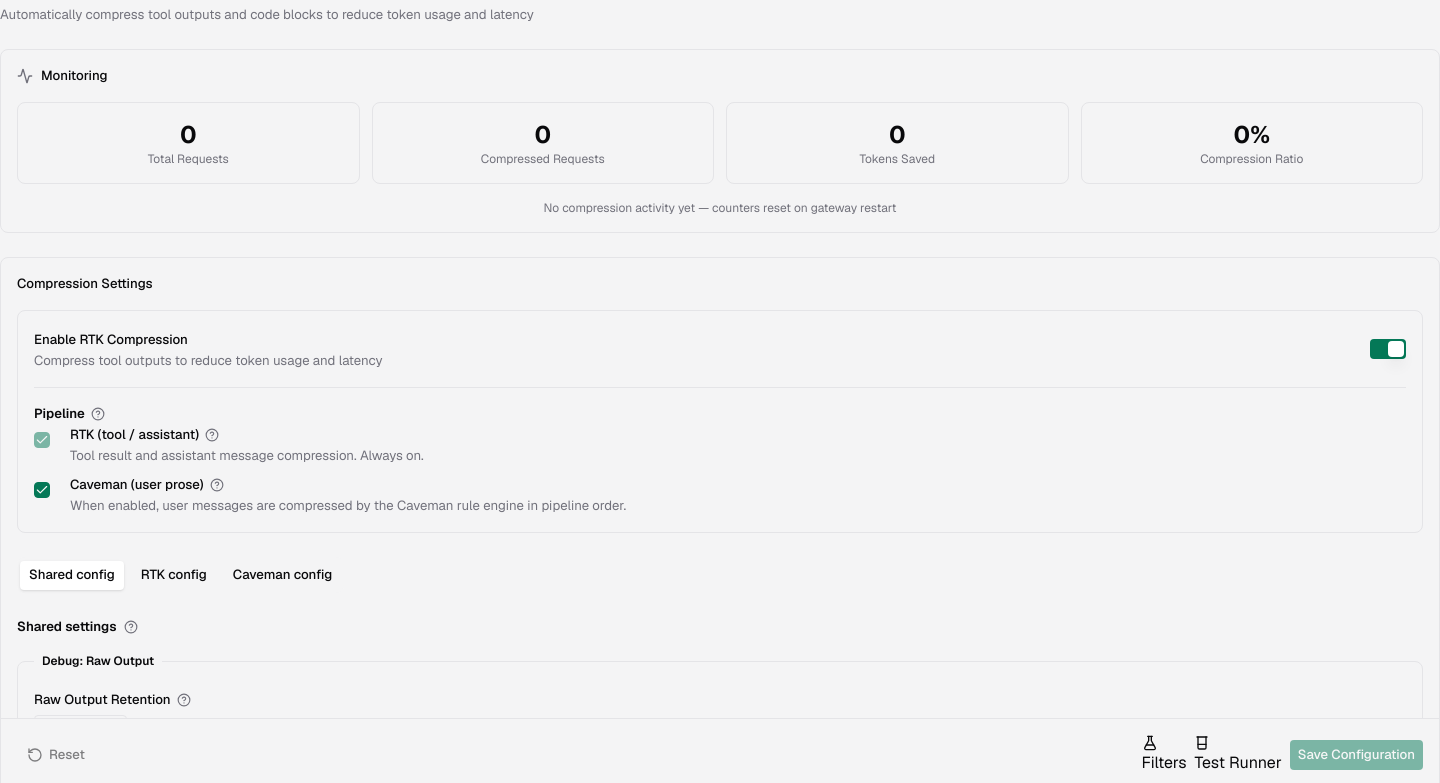
RtkFragment — pipeline checkboxes inside the enablement card › exposes the caveman sub-fields when caveman.enabled is true
This screenshot has width=1440, height=783.
Step 1. Press the mouse on the tab with test id "rtk-tab-caveman" → (282,575), box [224,560,341,590]
(page scrolled)
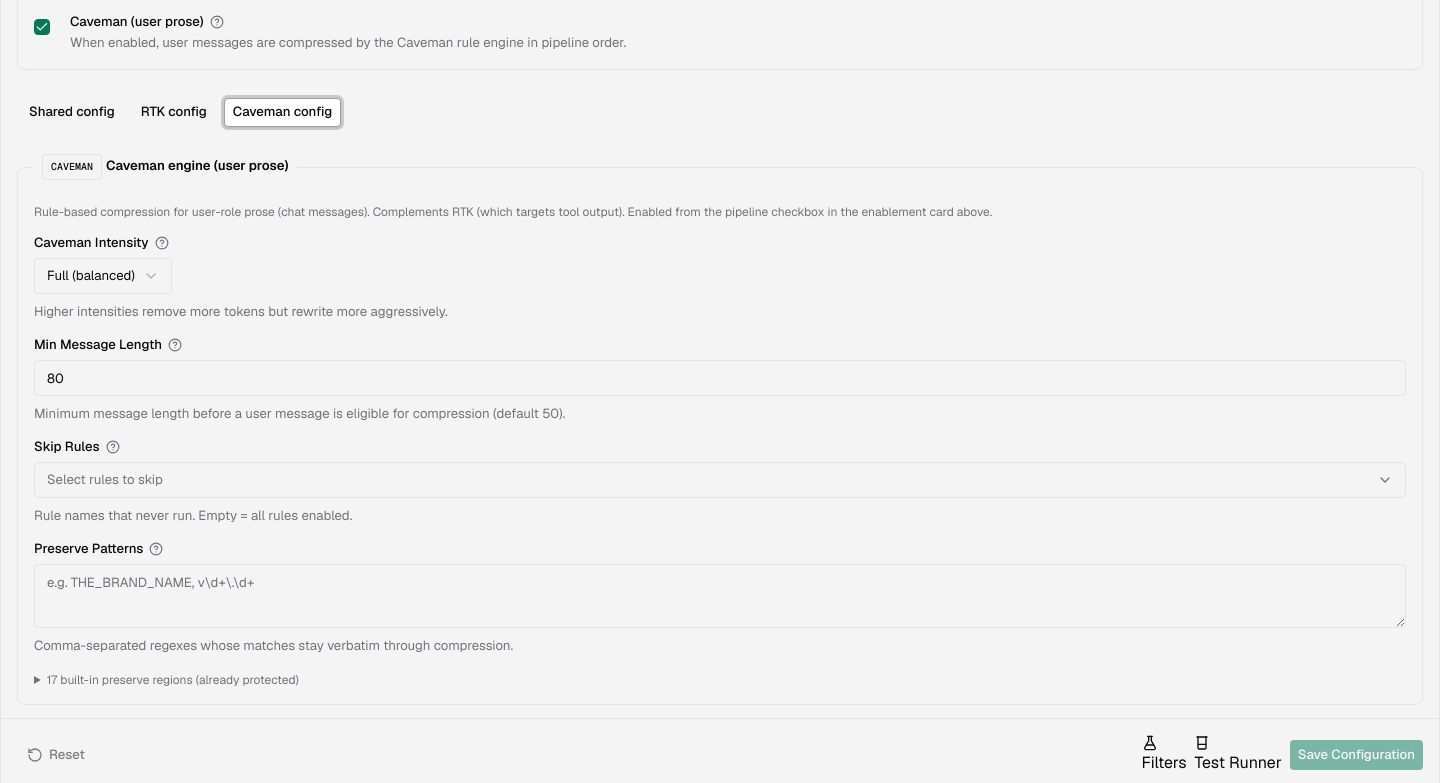
Expected: the dropdown with test id "caveman-field-intensity" is shown, [34,258,172,294]
Expected: the number field with test id "caveman-field-min-length" is shown, [34,360,1406,396]
